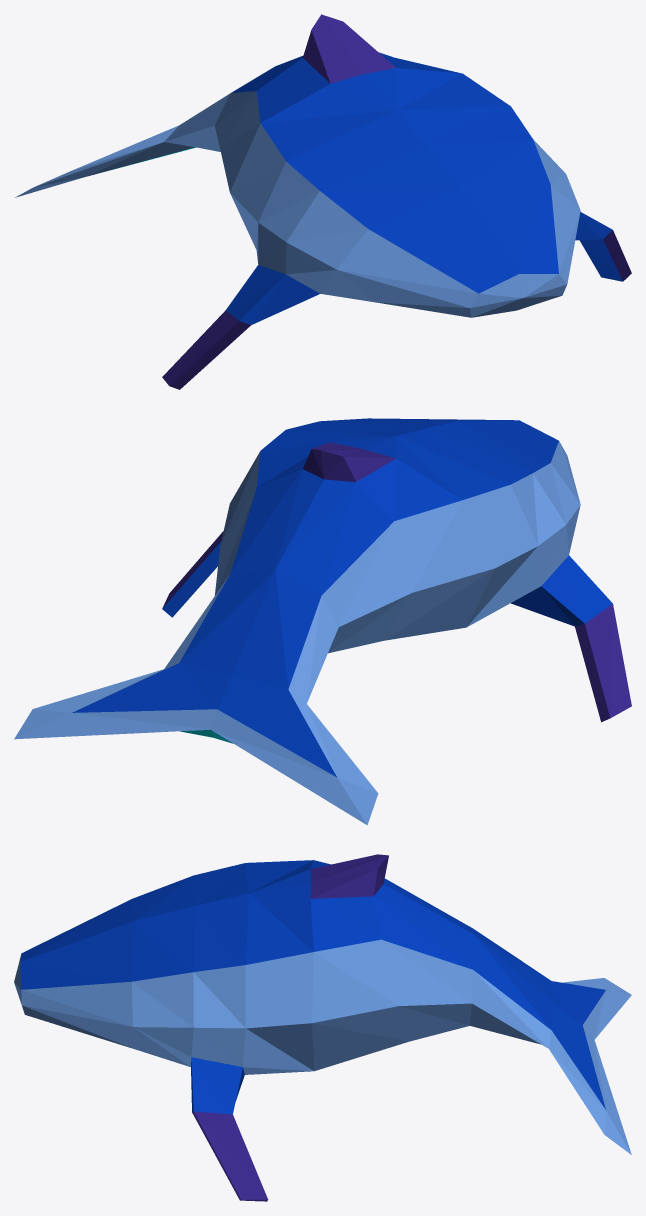
Rendered from whale_unanimated.fbx.
The picture shows the model from 3 angles, top to bottom: view 1: azimuth 30°, elevation 25°; view 2: azimuth 150°, elevation 25°; view 3: azimuth 270°, elevation 25°; orthographic projection. The views are drawn at different scales.
Visible parts, largest first — view 1: whale4:Cube_Cube_bottom_Cube_Cube_bottom_bottom1; view 2: whale4:Cube_Cube_bottom_Cube_Cube_bottom_bottom1; view 3: whale4:Cube_Cube_bottom_Cube_Cube_bottom_bottom1.
Part boxes in pixels (left/top/right/bottom): whale4:Cube_Cube_bottom_Cube_Cube_bottom_bottom1: left=15, top=14, right=631, bottom=389; whale4:Cube_Cube_bottom_Cube_Cube_bottom_bottom1: left=14, top=418, right=631, bottom=825; whale4:Cube_Cube_bottom_Cube_Cube_bottom_bottom1: left=14, top=854, right=631, bottom=1201.
Bounding box in the file's own units: 7.21 × 3.99 × 8.97.
